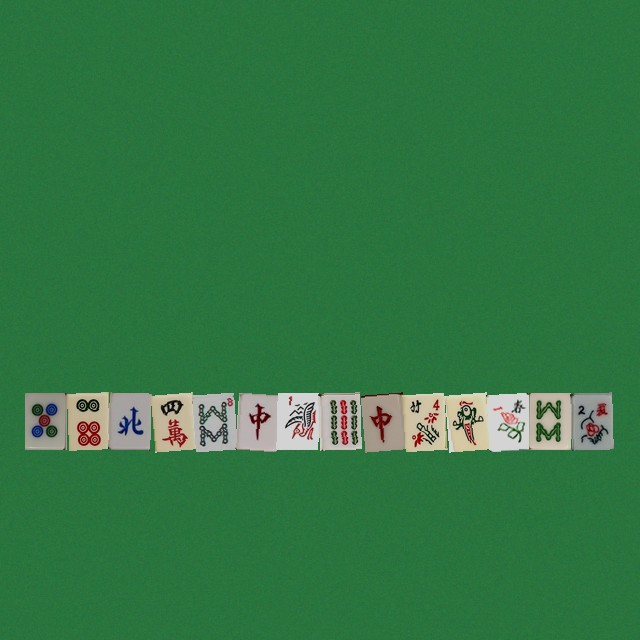tile: (24, 392, 66, 449), (66, 392, 108, 449), (108, 392, 150, 449), (150, 392, 192, 449), (192, 392, 234, 449), (234, 392, 276, 449), (276, 392, 318, 449), (318, 392, 360, 449), (360, 392, 402, 449), (402, 392, 444, 449), (444, 392, 486, 449), (486, 392, 528, 449), (528, 392, 570, 449), (570, 392, 612, 449)
